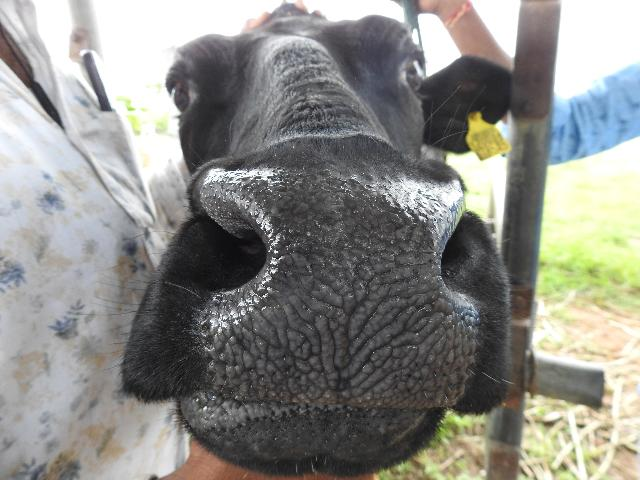Muzzle: (241, 164, 429, 407)
